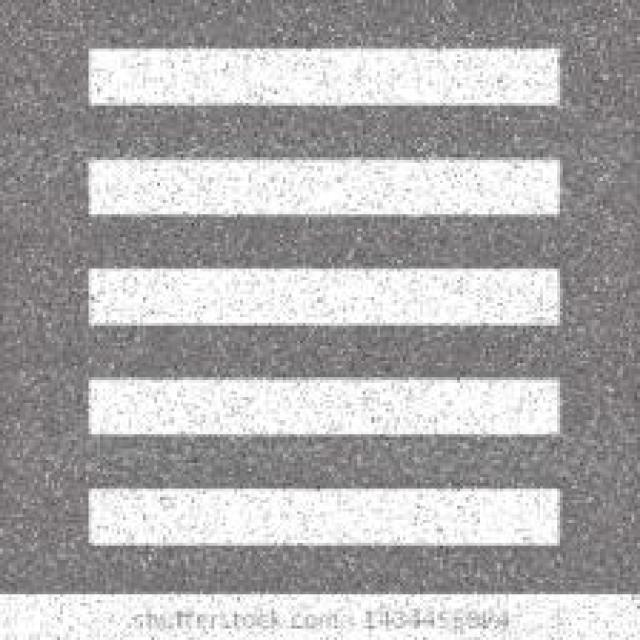walk-crossing: (51, 14, 603, 574)
